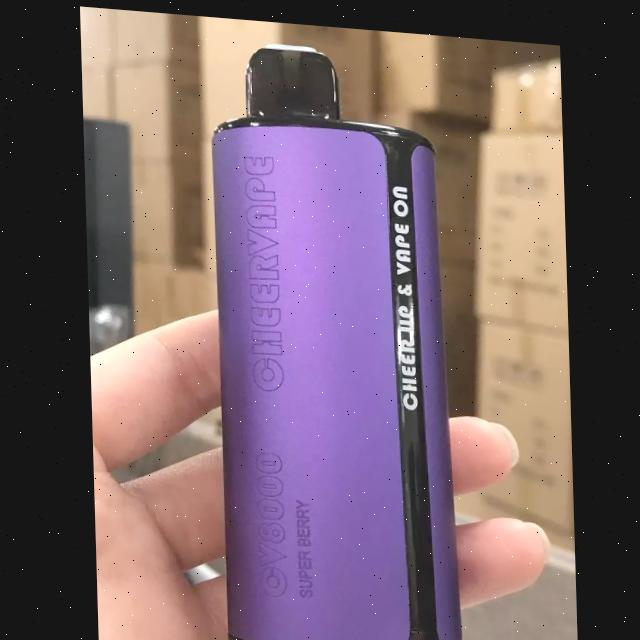vape: (208, 35, 462, 640)
